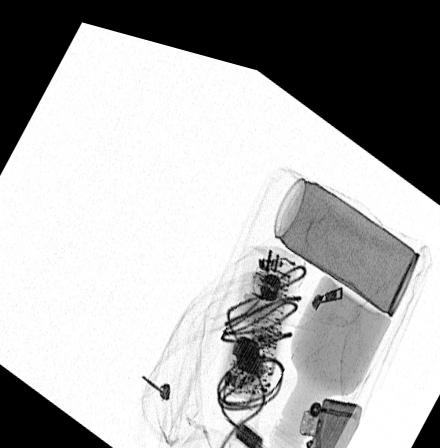Lighter: (299, 379, 363, 448)
